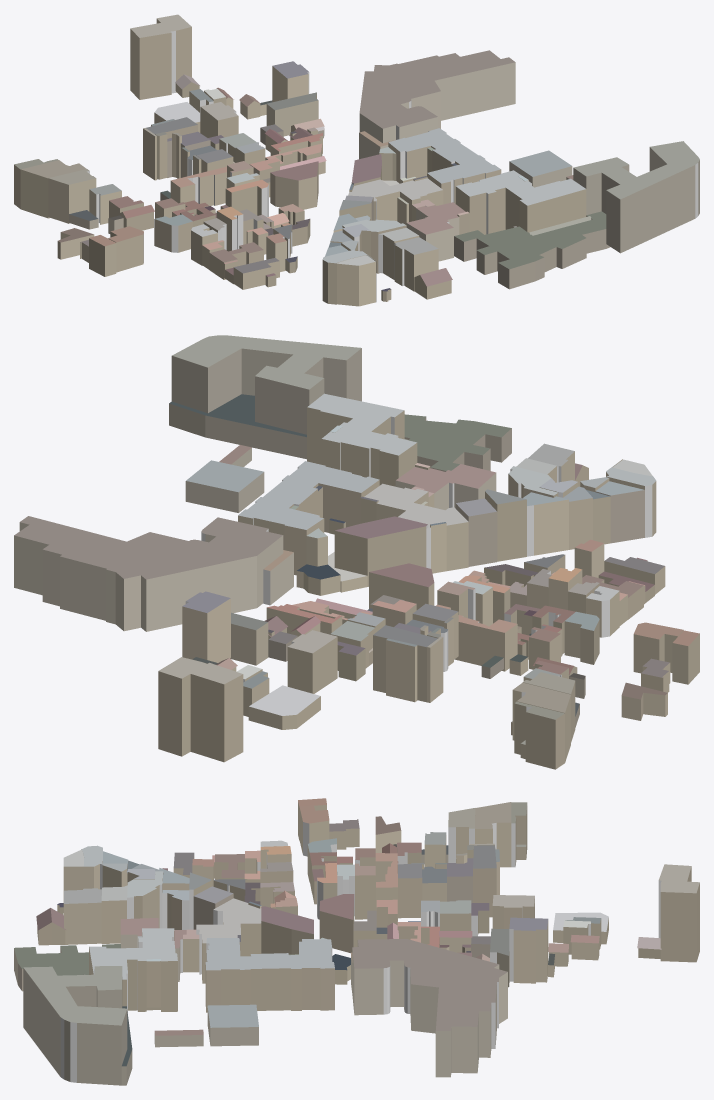
The picture shows the model from 3 angles, top to bottom: view 1: azimuth 30°, elevation 25°; view 2: azimuth 150°, elevation 25°; view 3: azimuth 270°, elevation 25°; orthographic projection. The views are drawn at different scales.
Parts seen in each view (by area): view 1: tuile; view 2: tuile; view 3: tuile.
Boxes of the visible parts, x1,y1,x2,y2 form: tuile: (14,14,699,306); tuile: (14,335,699,769); tuile: (14,798,699,1085).
Bounding box in the file's own units: 250 × 36.62 × 262.
